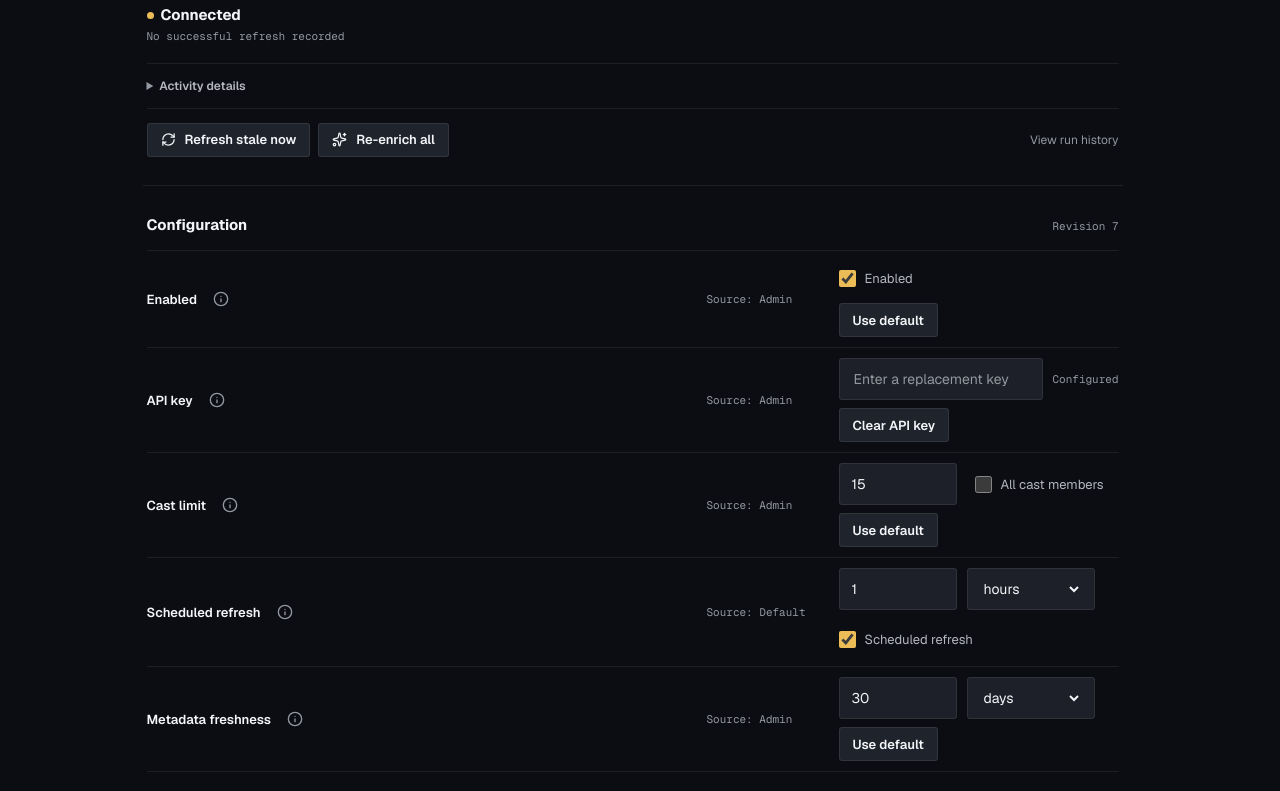
Scenario: TMDB Admin settings › pluralizes duration defaults in setting help
Focus the button named "About Scheduled refresh" at coordinates (284, 612), box [268, 595, 302, 629]
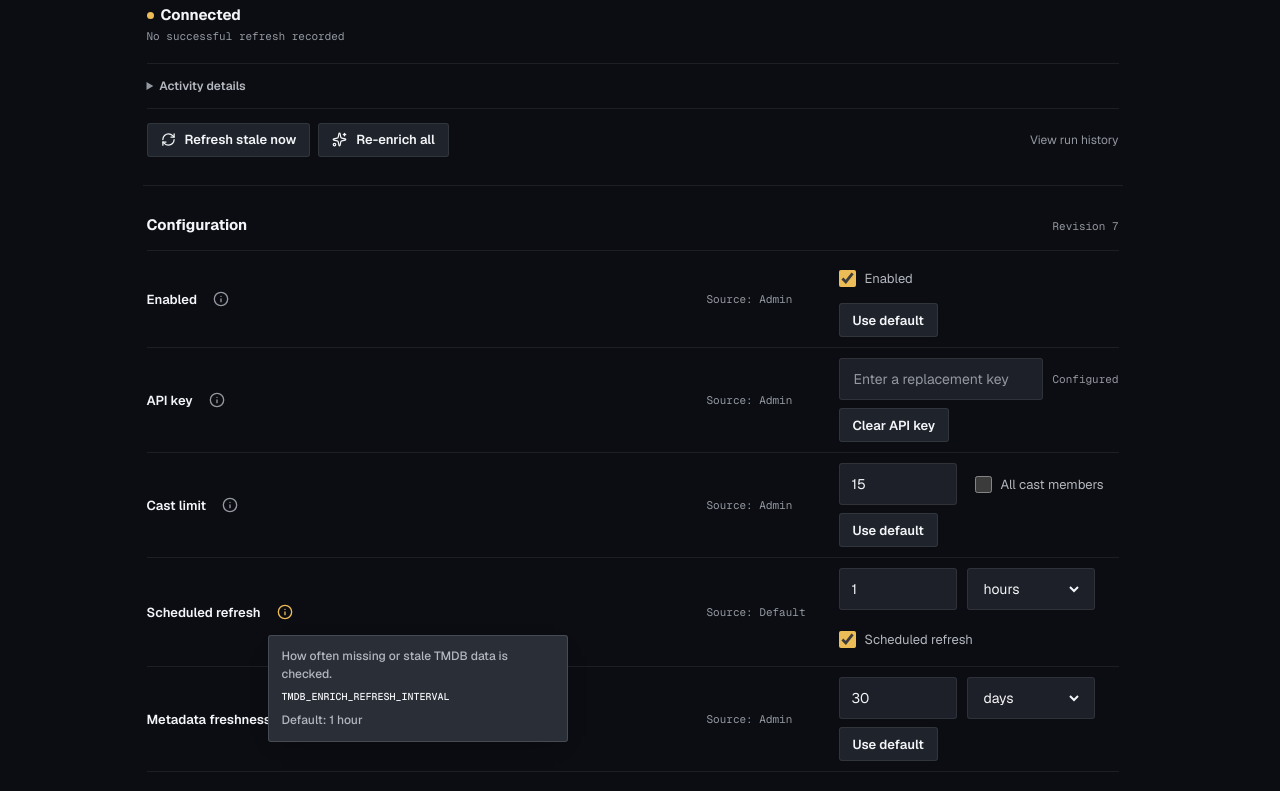
Now the text "Default: 1 hour" is shown, box [282, 712, 363, 728]
Leave the button named "About Scheduled refresh", box [268, 595, 302, 629]
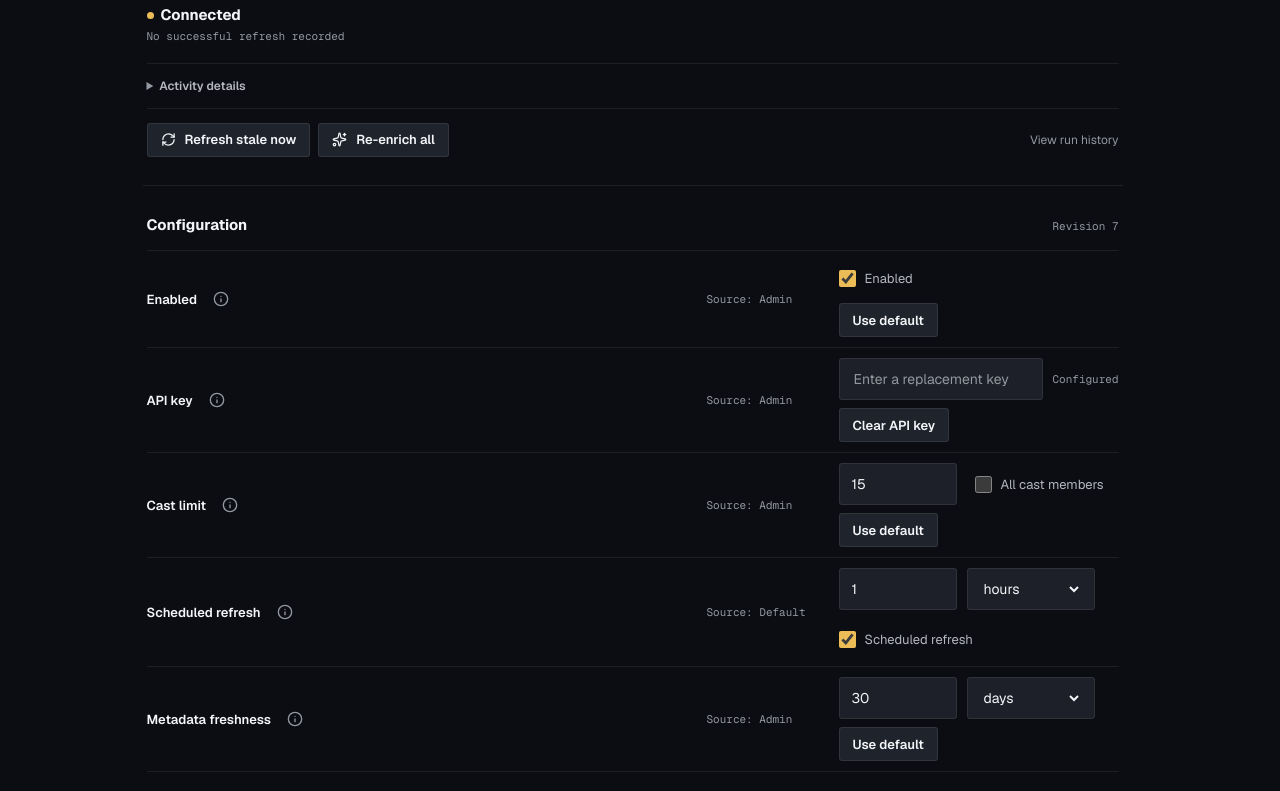
Focus the button named "About Metadata freshness" at coordinates (295, 719), box [278, 702, 312, 736]
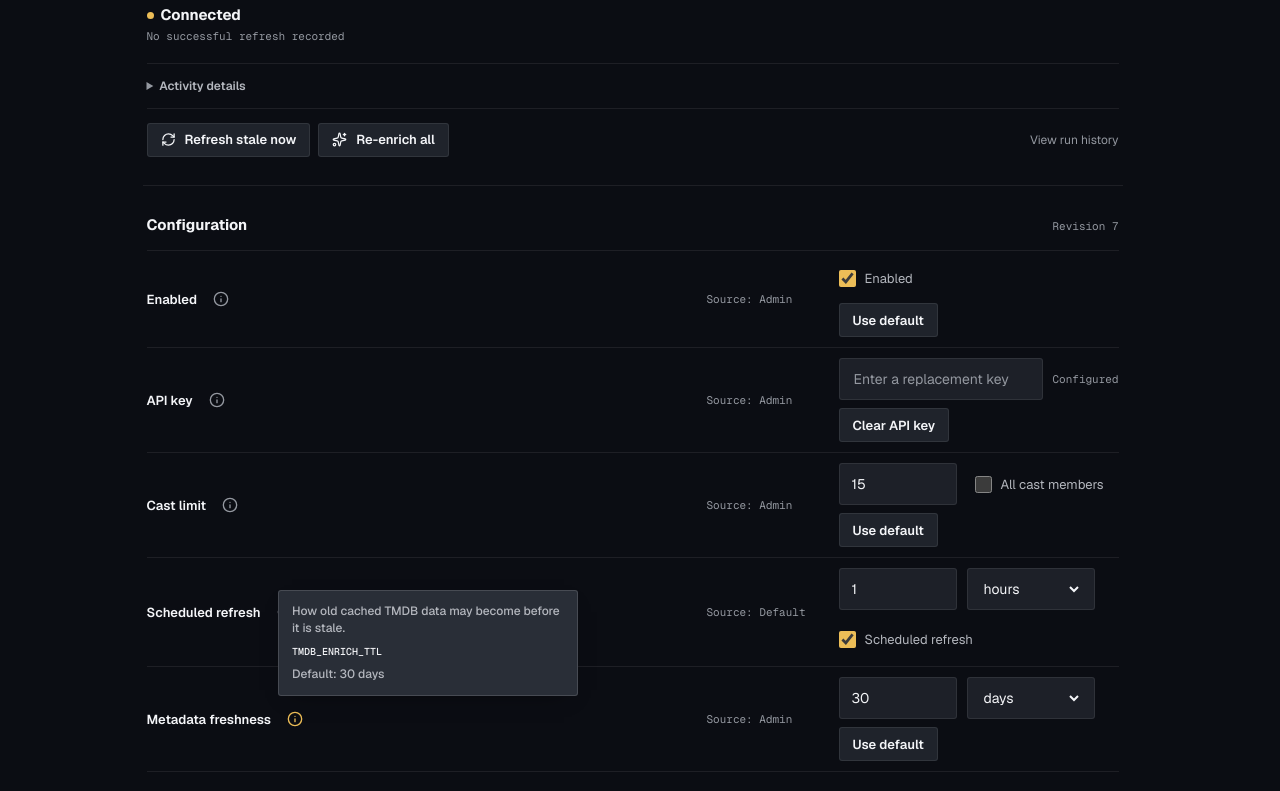
Now the text "Default: 30 days" is shown, box [292, 666, 384, 682]
